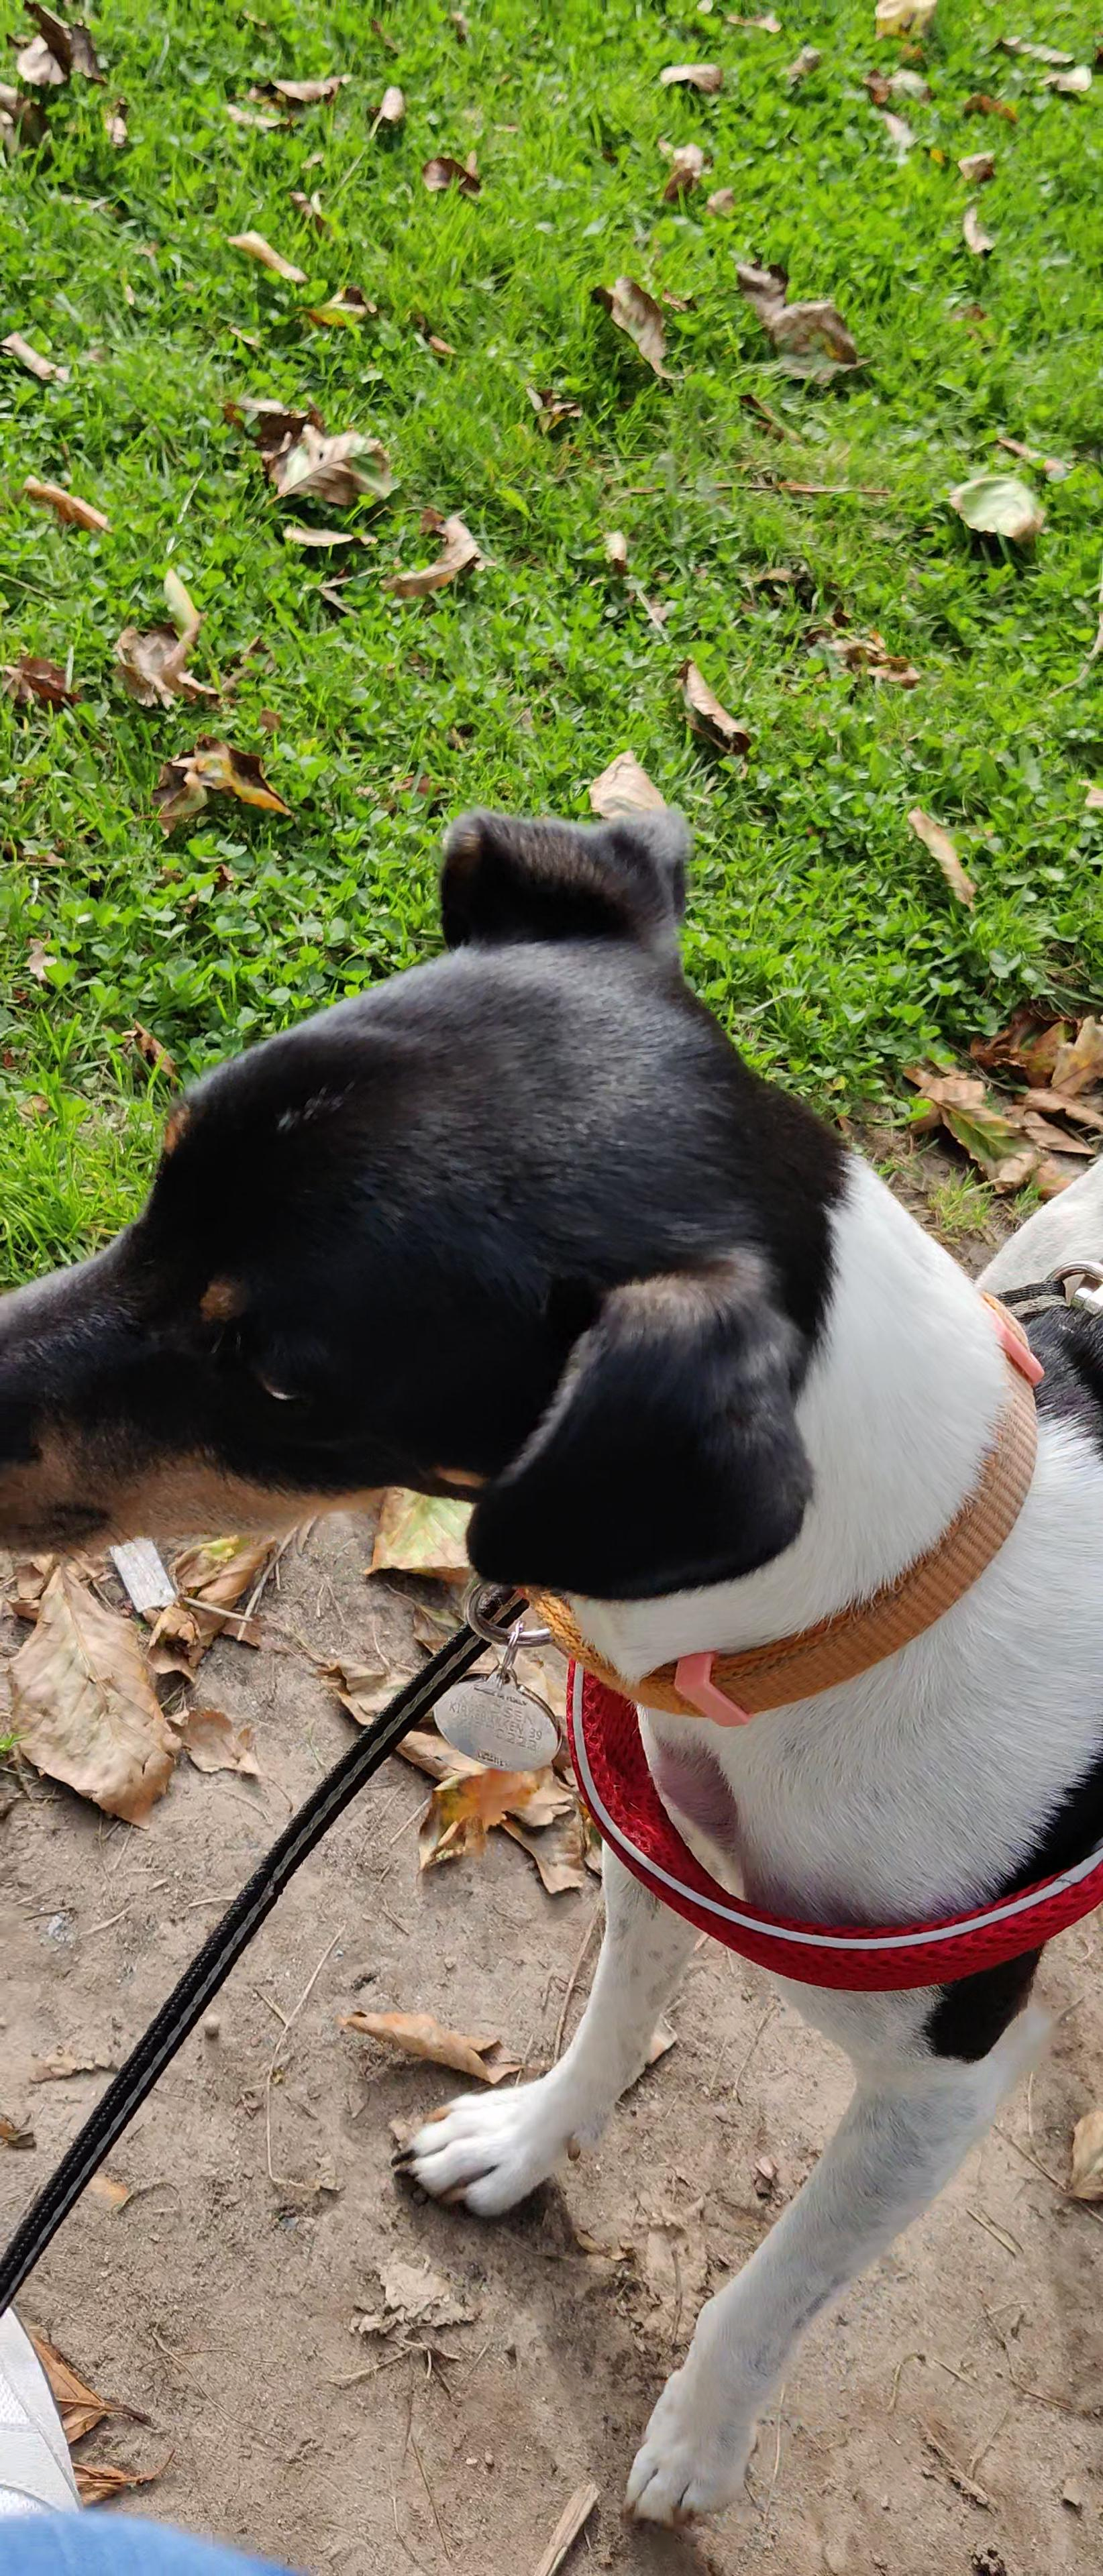Dog: (0, 779, 1103, 2528)
